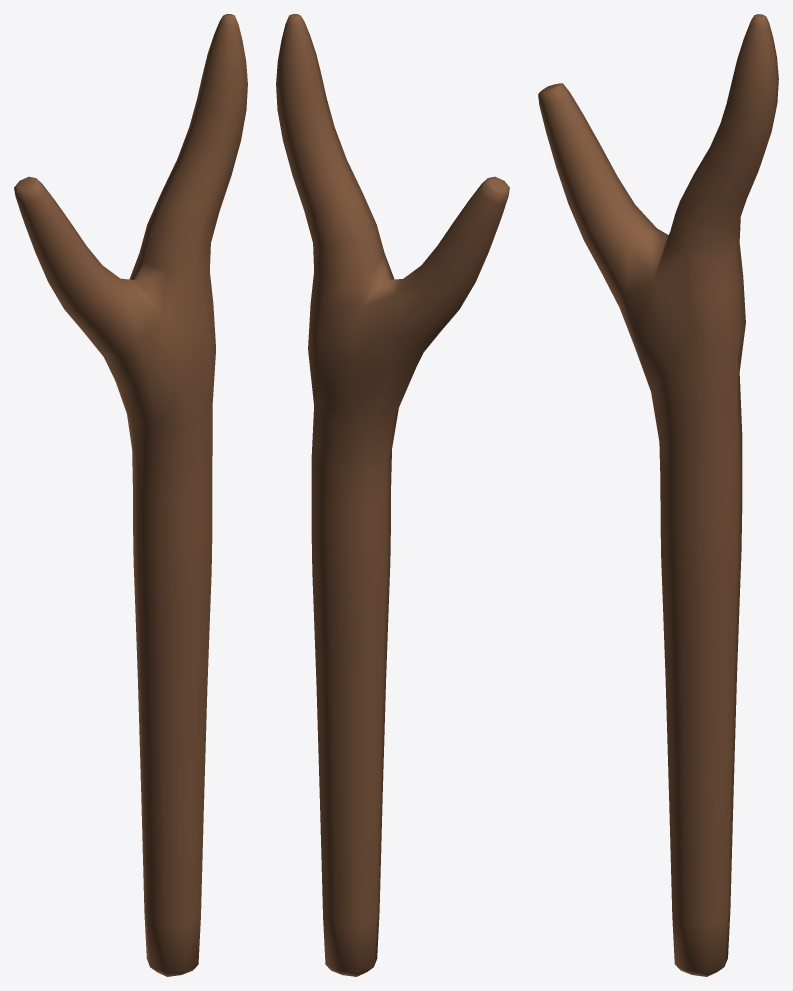
File: twig.fbx
3 renders of one model, left to right at view 1: azimuth 30°, elevation 25°; view 2: azimuth 150°, elevation 25°; view 3: azimuth 330°, elevation 25°, orthographic. The views are drawn at different scales.
Visible parts, largest first — view 1: Cube; view 2: Cube; view 3: Cube.
Boxes of the visible parts, x1=… form: Cube: x1=14, y1=14, x2=247, y2=976; Cube: x1=276, y1=14, x2=509, y2=976; Cube: x1=538, y1=14, x2=778, y2=976.
Bounding box in the file's own units: 200 × 783 × 64.68.
